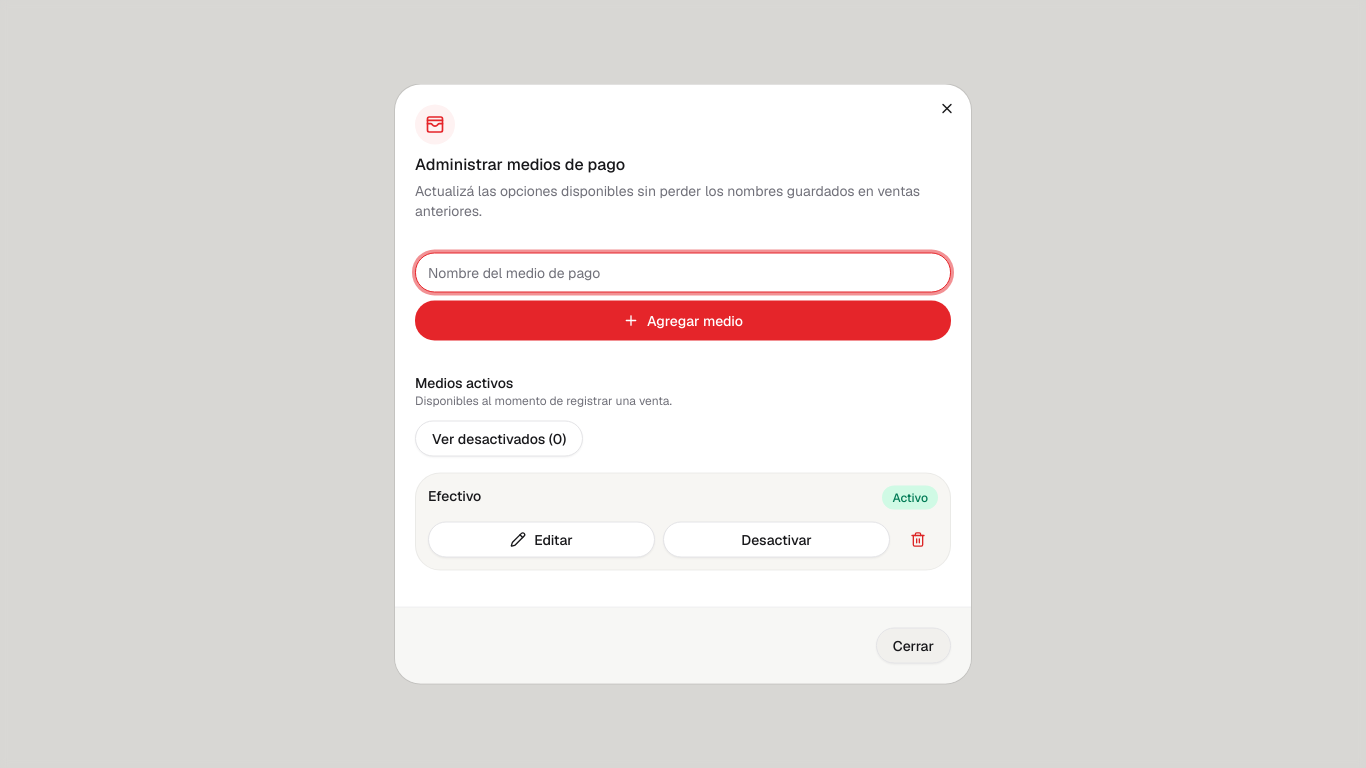
Test case: keeps an in-use method and shows the backend guidance
Click the button named "Eliminar Efectivo". click: [918, 540]
box: [898, 522, 938, 558]
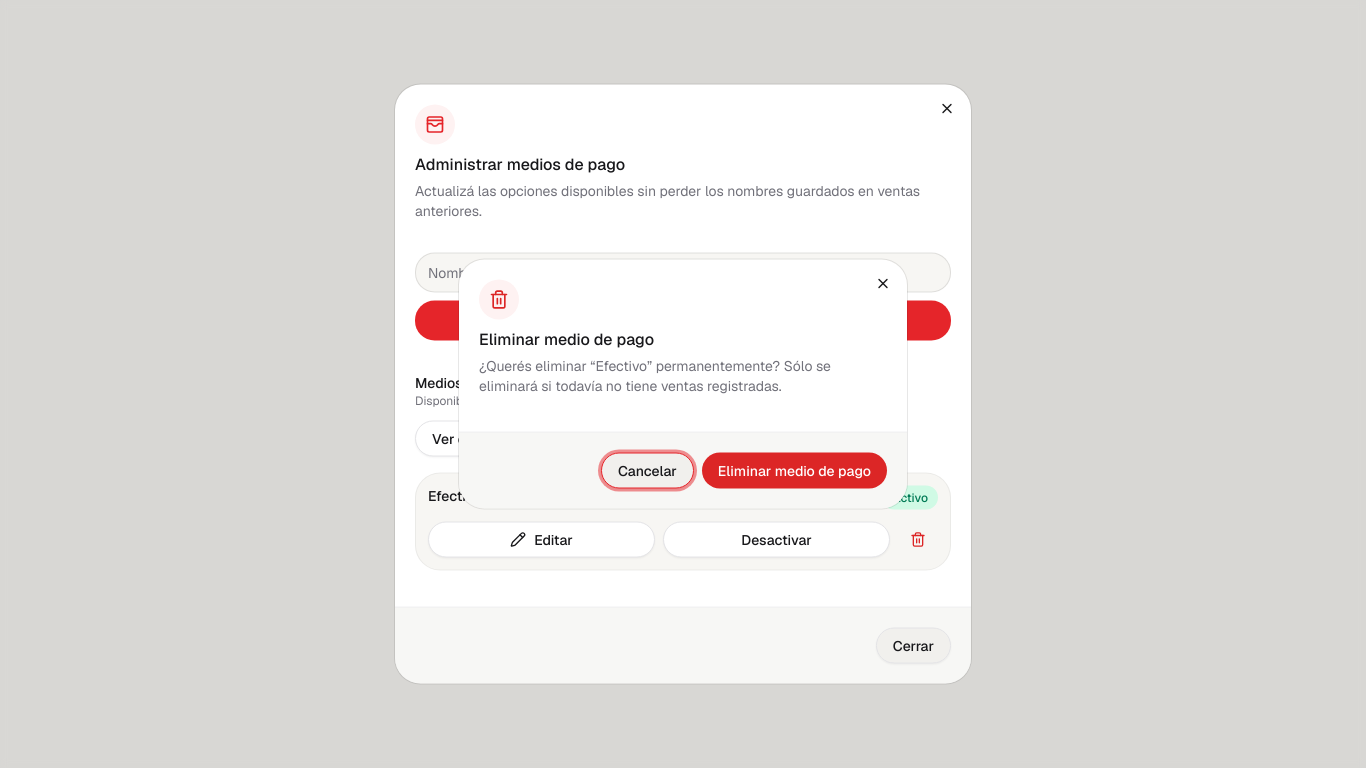
Click the button "Eliminar medio de pago". click: [794, 470]
box: [702, 452, 887, 488]
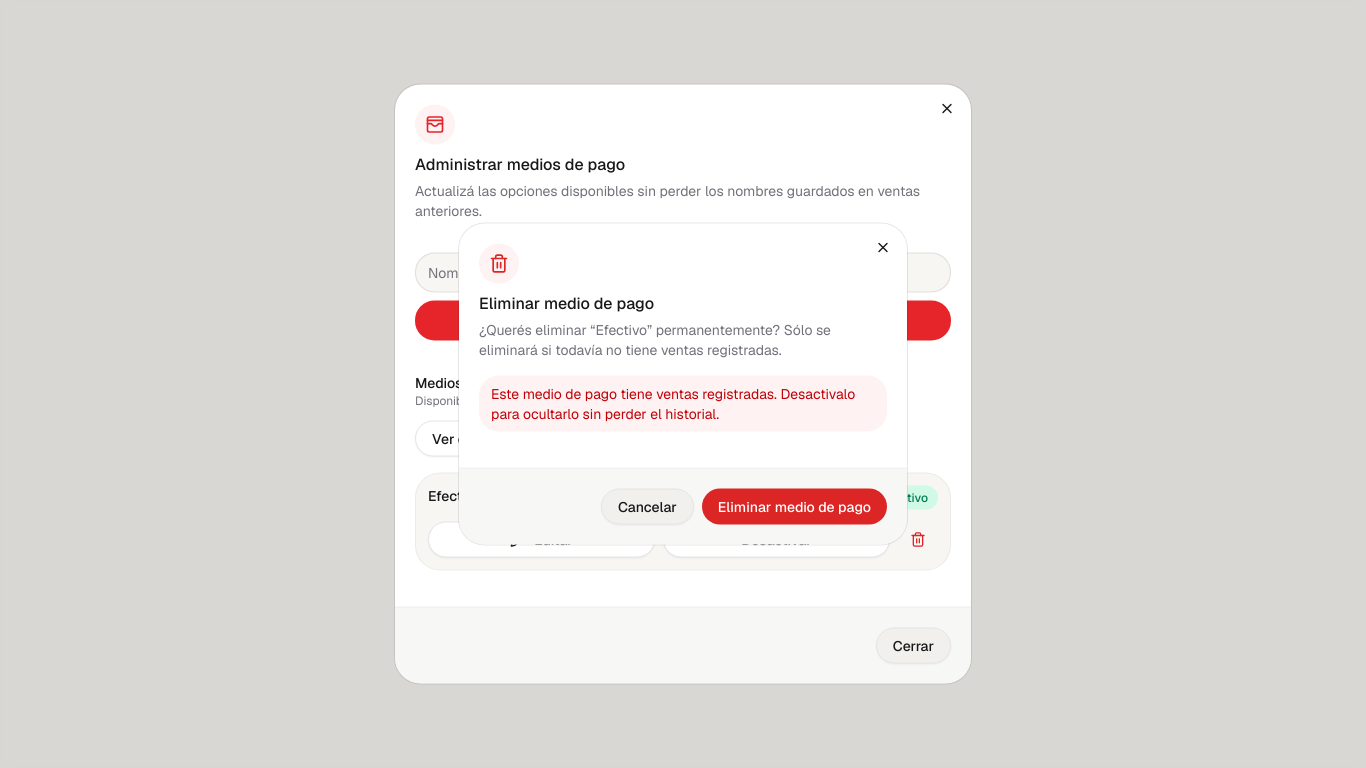
Check: the message shows "Este medio de pago tiene ventas registradas. Desactivalo para ocultarlo sin perder el historial.", box [491, 384, 855, 422]
